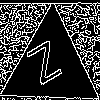Z: (26, 40, 68, 94)
